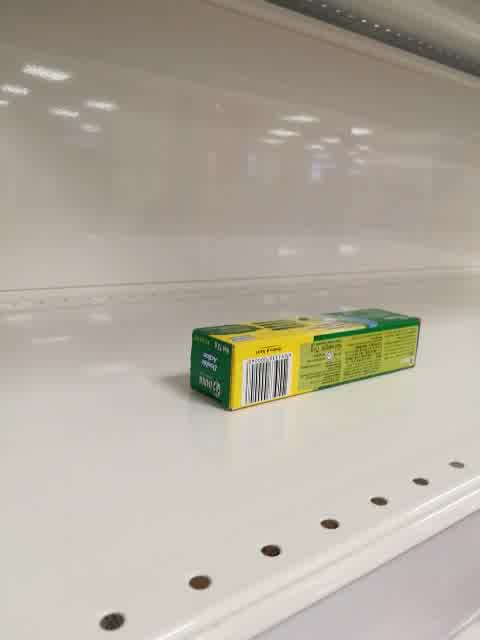toothpaste: (189, 307, 422, 413)
